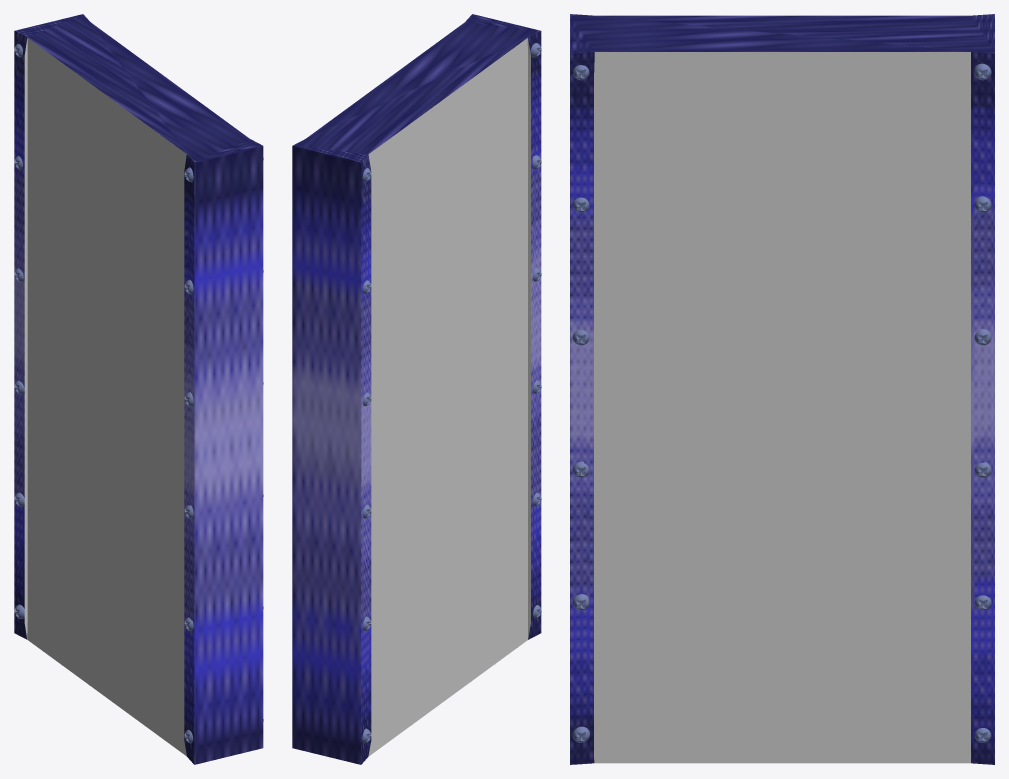
The model's file is Conveyerbelt4.fbx.
3 renders of one model, left to right at view 1: azimuth 30°, elevation 25°; view 2: azimuth 150°, elevation 25°; view 3: azimuth 270°, elevation 25°, orthographic. The views are drawn at different scales.
Visible parts, largest first — view 1: Sphere; view 2: Sphere; view 3: Sphere.
Part boxes in pixels (left/top/right/bottom): Sphere: left=14, top=14, right=263, bottom=764; Sphere: left=292, top=14, right=541, bottom=764; Sphere: left=570, top=14, right=994, bottom=764.
Size of the model in its own units: 906 by 222 by 1674.
